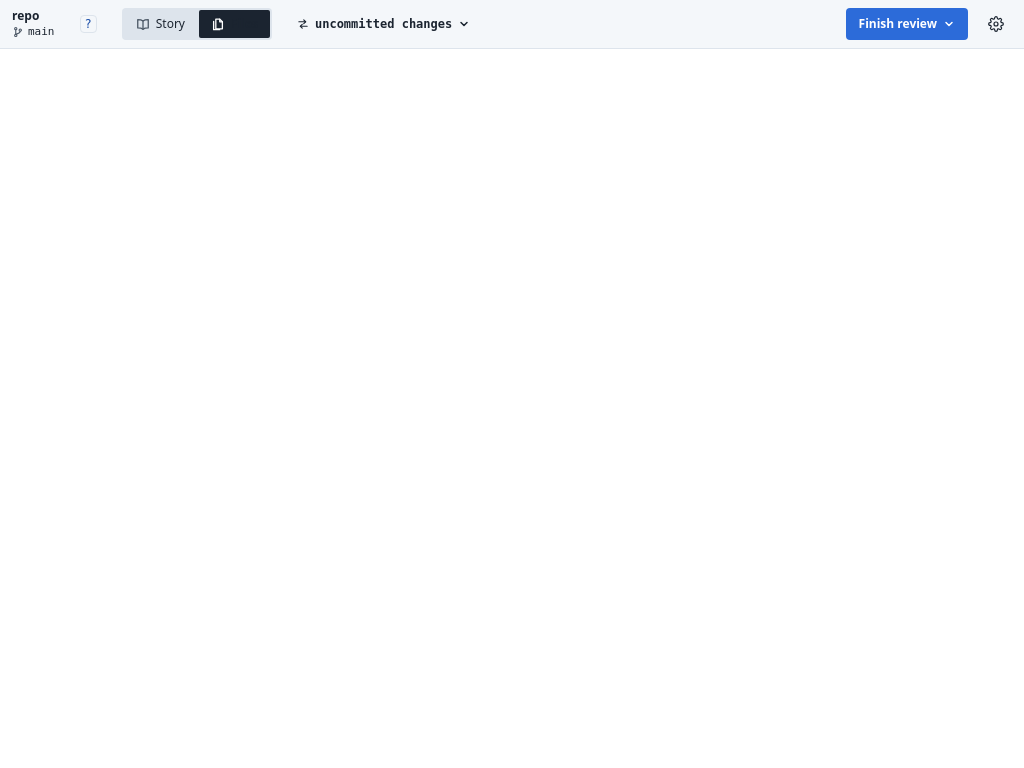
Test: a pane and the keyboard › closes once the keyboard leaves it for anything else, so only one is open at a time
Step 1. Click the button with test id "base-picker" → (384, 24), box [284,8,483,40]
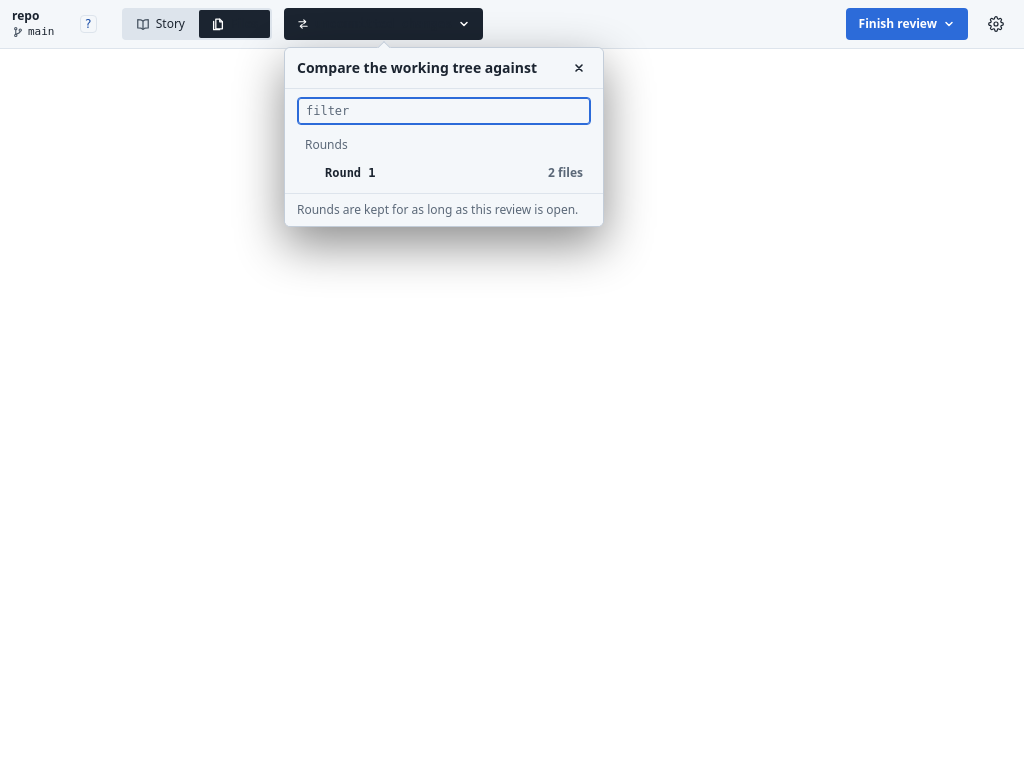
Step 2. Press Tab
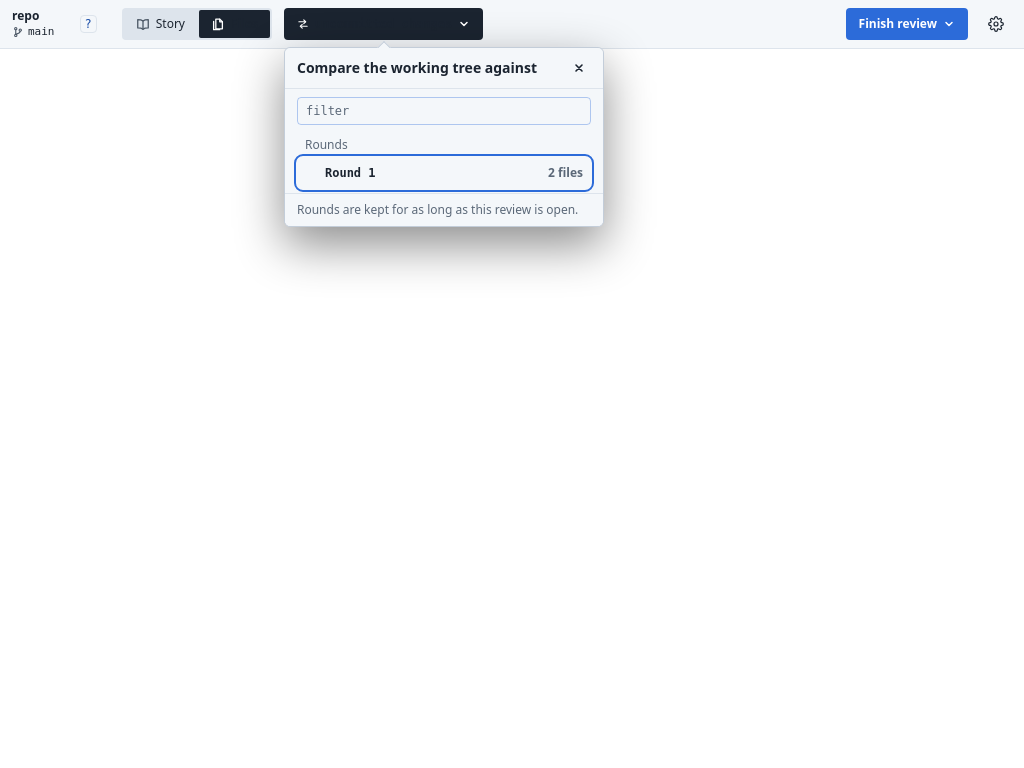
Step 3. Press Tab
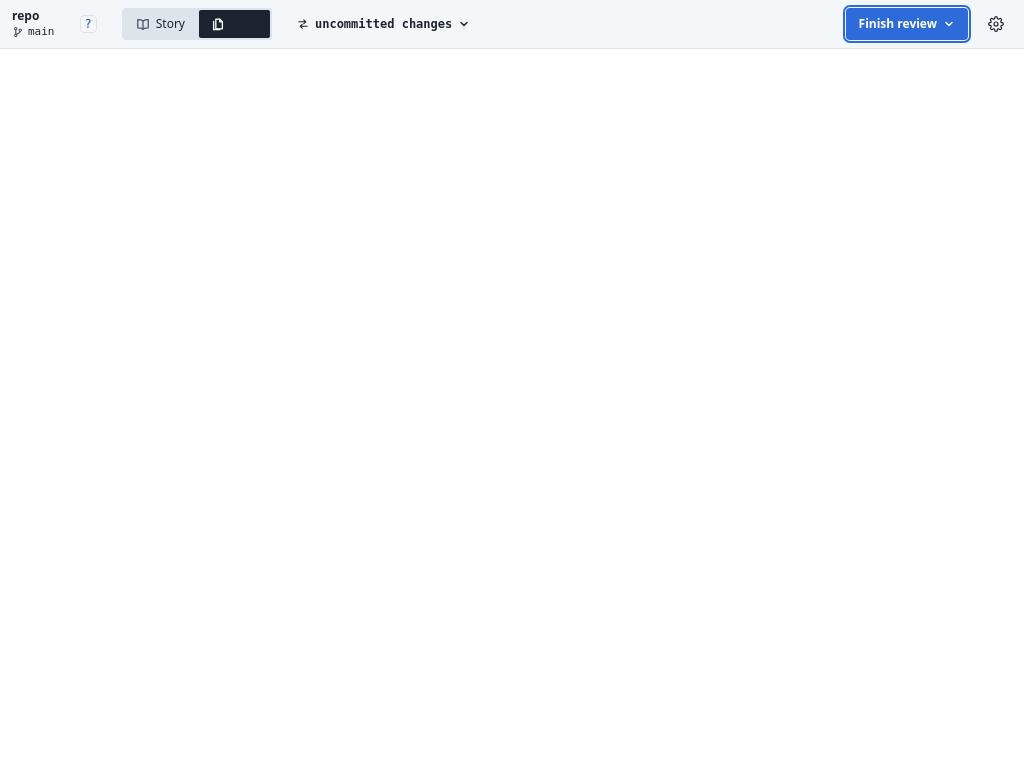
expect the dialog with test id "base-list" is gone: met
